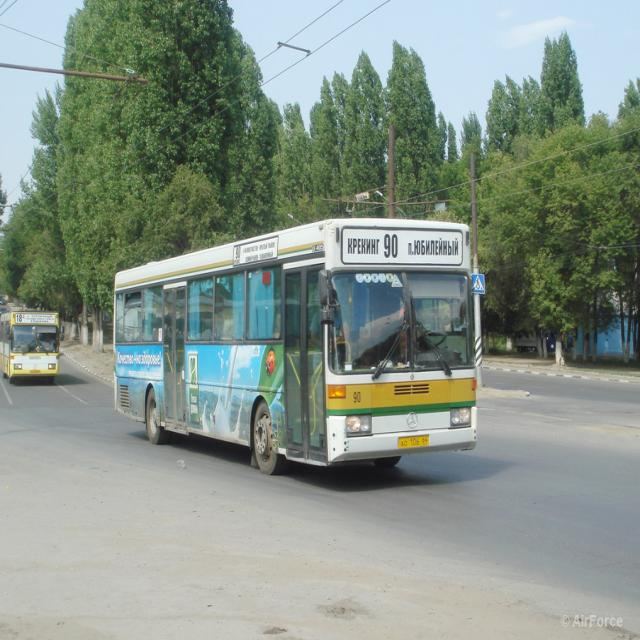number-of-bus: (384, 228, 404, 266)
